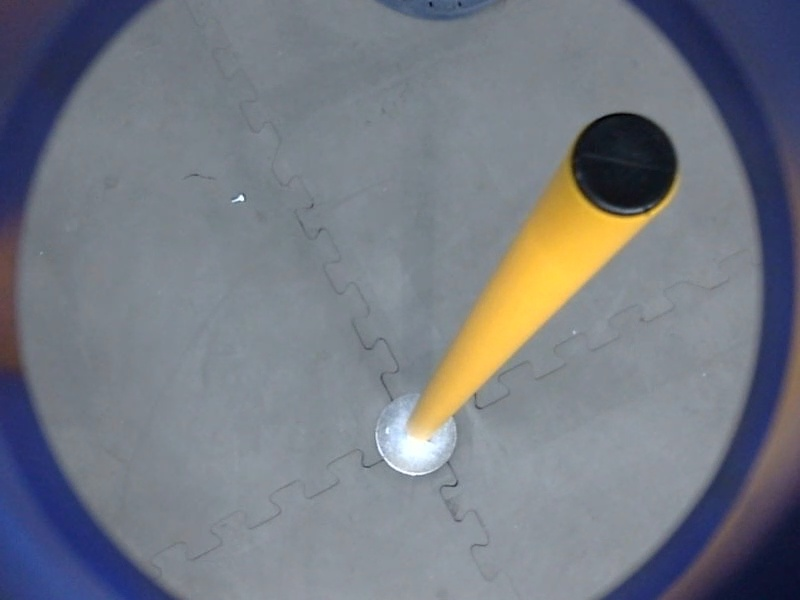tip: (564, 105, 688, 224)
